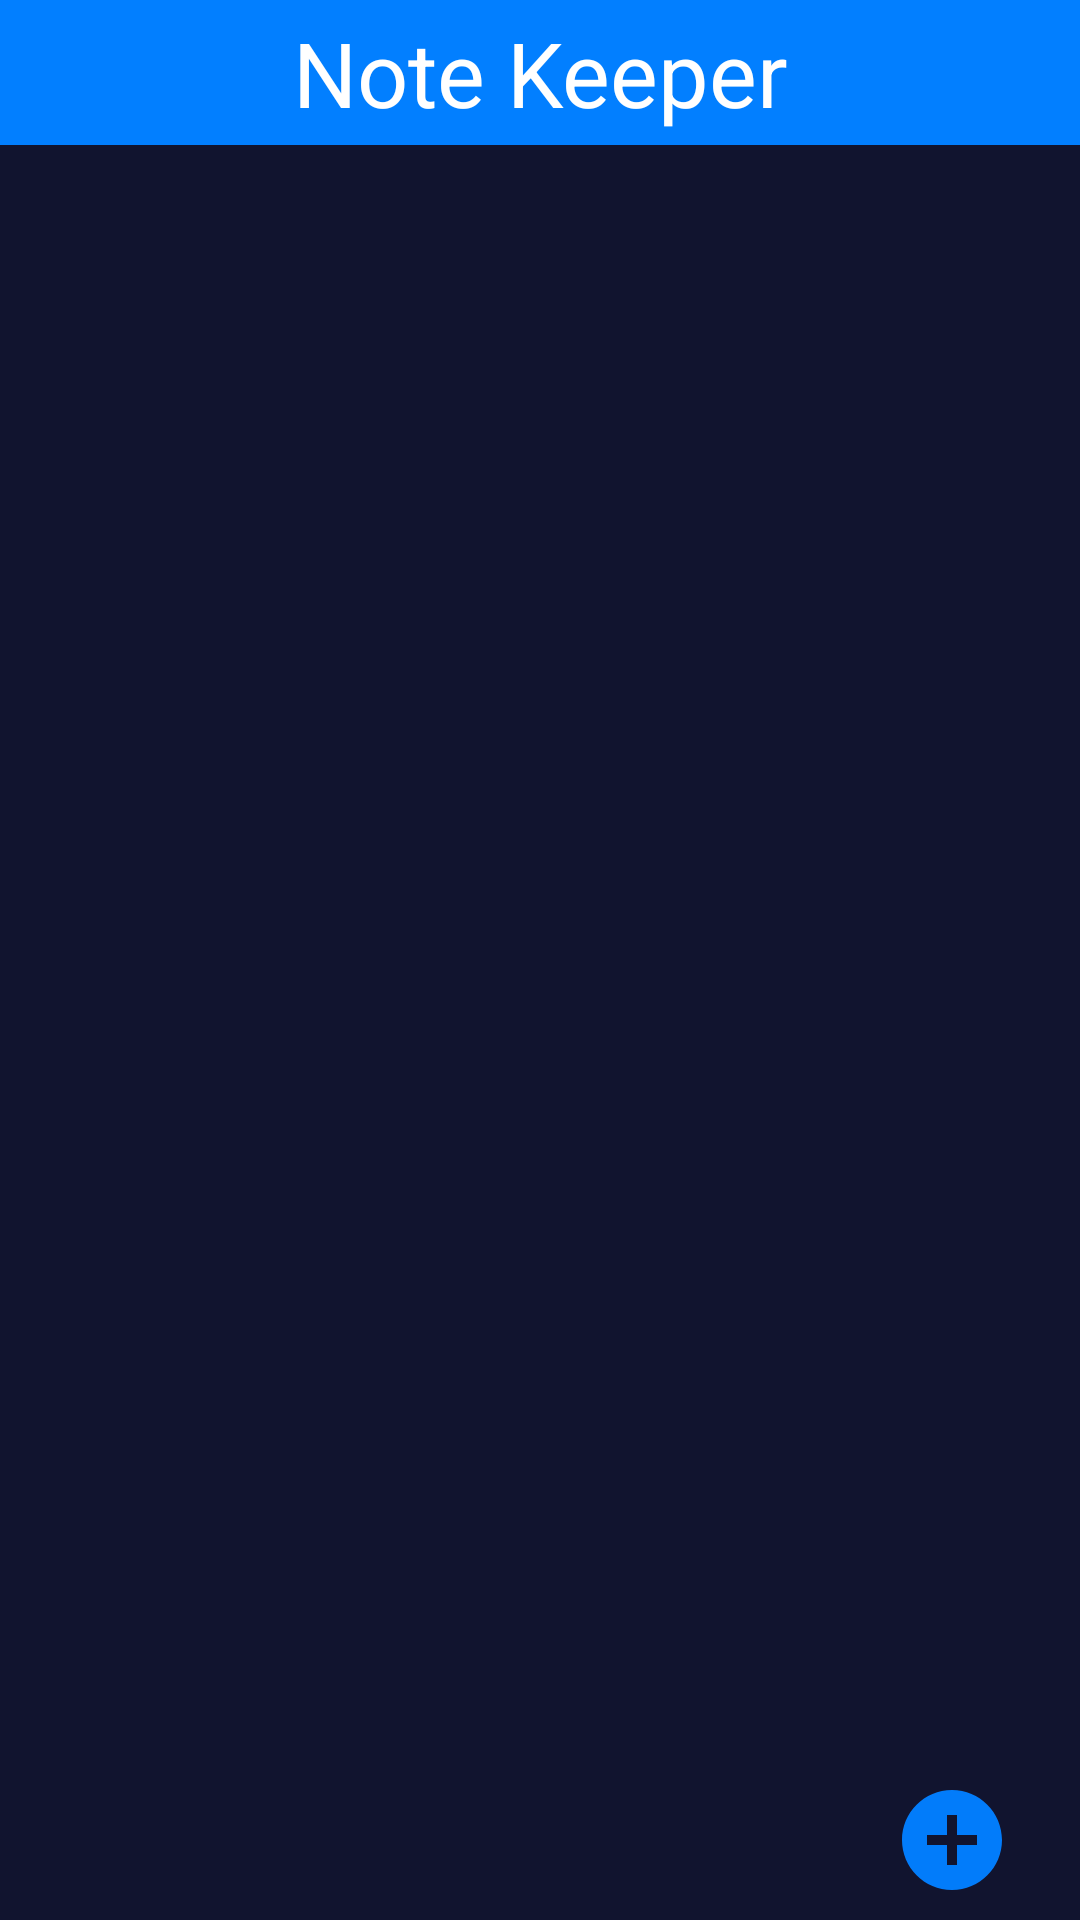

Named icons in this screenshot (1080px x 1920px) and their centers, (x,y):
add circle: (952,1840)
